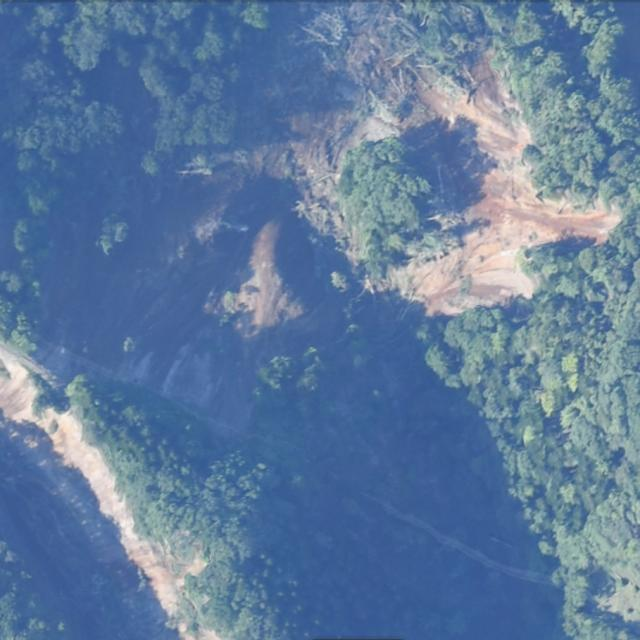landslide: (285, 30, 621, 317), (0, 342, 201, 617)
